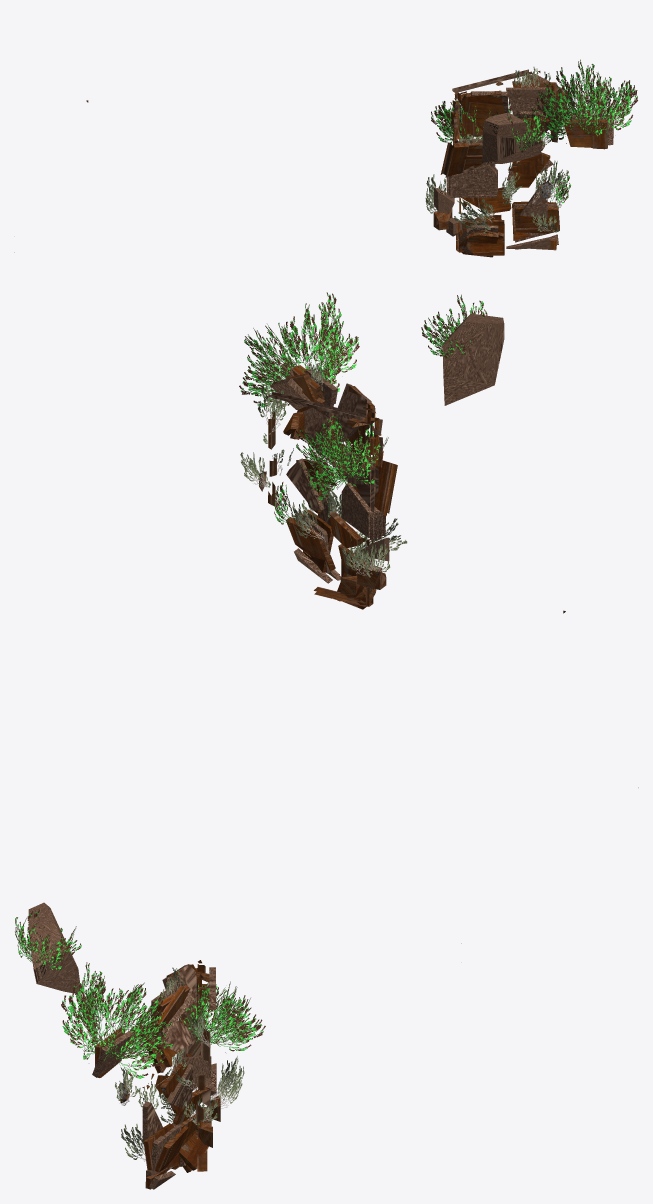
Rendered from escultura.glb.
3 views of the same model, one above another, from view 1: azimuth 30°, elevation 25°; view 2: azimuth 150°, elevation 25°; view 3: azimuth 270°, elevation 25° (orthographic). The views are drawn at different scales.
Parts seen in each view (by area): view 1: creosote branch 02_7_creosote branch 02_7Mat_0, 1_cell.037, 1_cell.053, 1_cell.196, 1_cell.073, 1_cell.074, 1_cell.145, 1_cell.027, 1_cell.147, 1_cell.173, 1_cell.184, 1_cell.216 (+7 smaller); view 2: creosote branch 02_7_creosote branch 02_7Mat_0, 1_cell.037, 1_cell.218, 1_cell.210, 1_cell.194, 1_cell.196, 1_cell.178, creosote branch 02_7_creosote branch 02_7Mat_0_cell.020, 1_cell.197; view 3: creosote branch 02_7_creosote branch 02_7Mat_0, 1_cell.037, 1_cell.001, 1_cell.194, 1_cell.197, 1_cell.215, 1_cell.210, 1_cell.187, 1_cell.184, 1_cell.173, 1_cell.200, 1_cell.218 (+2 smaller).
Part boxes in pixels (x1=…): creosote branch 02_7_creosote branch 02_7Mat_0: x1=431, y1=59, x2=637, y2=152; 1_cell.037: x1=482, y1=112, x2=542, y2=163; 1_cell.053: x1=446, y1=164, x2=496, y2=198; 1_cell.196: x1=440, y1=142, x2=482, y2=177; 1_cell.073: x1=564, y1=120, x2=607, y2=149; 1_cell.074: x1=460, y1=90, x2=504, y2=127; 1_cell.145: x1=506, y1=87, x2=550, y2=114; 1_cell.027: x1=514, y1=206, x2=559, y2=236; 1_cell.147: x1=461, y1=187, x2=511, y2=213; 1_cell.173: x1=512, y1=152, x2=550, y2=187; 1_cell.184: x1=519, y1=184, x2=547, y2=218; 1_cell.216: x1=467, y1=215, x2=502, y2=253; creosote branch 02_7_creosote branch 02_7Mat_0: x1=239, y1=292, x2=487, y2=500; 1_cell.037: x1=442, y1=313, x2=504, y2=405; 1_cell.218: x1=341, y1=483, x2=377, y2=540; 1_cell.210: x1=286, y1=517, x2=335, y2=571; 1_cell.194: x1=335, y1=383, x2=371, y2=441; 1_cell.196: x1=353, y1=457, x2=397, y2=515; 1_cell.178: x1=347, y1=453, x2=378, y2=512; creosote branch 02_7_creosote branch 02_7Mat_0_cell.020: x1=342, y1=541, x2=390, y2=577; 1_cell.197: x1=286, y1=458, x2=324, y2=510; creosote branch 02_7_creosote branch 02_7Mat_0: x1=15, y1=910, x2=265, y2=1078; 1_cell.037: x1=28, y1=902, x2=81, y2=993; 1_cell.001: x1=92, y1=1030, x2=133, y2=1077; 1_cell.194: x1=162, y1=964, x2=196, y2=1018; 1_cell.197: x1=166, y1=1064, x2=192, y2=1109; 1_cell.215: x1=178, y1=1132, x2=208, y2=1170; 1_cell.210: x1=155, y1=1126, x2=188, y2=1172; 1_cell.187: x1=143, y1=1020, x2=192, y2=1051; 1_cell.184: x1=142, y1=1101, x2=162, y2=1141; 1_cell.173: x1=160, y1=1059, x2=186, y2=1113; 1_cell.200: x1=155, y1=985, x2=185, y2=1041; 1_cell.218: x1=183, y1=1055, x2=211, y2=1090.
Size of the model in its own units: 7.15 by 3.07 by 7.06.
Materials: 4 (4 with a texture image).
